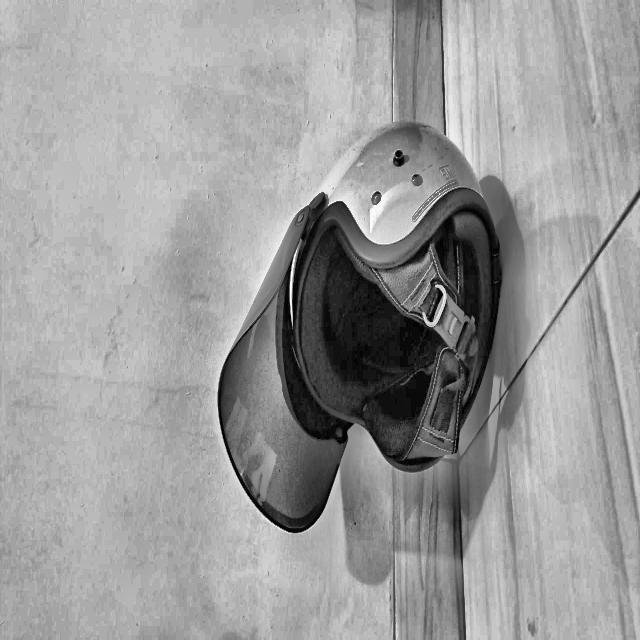Helmet: (55, 373, 312, 640)
